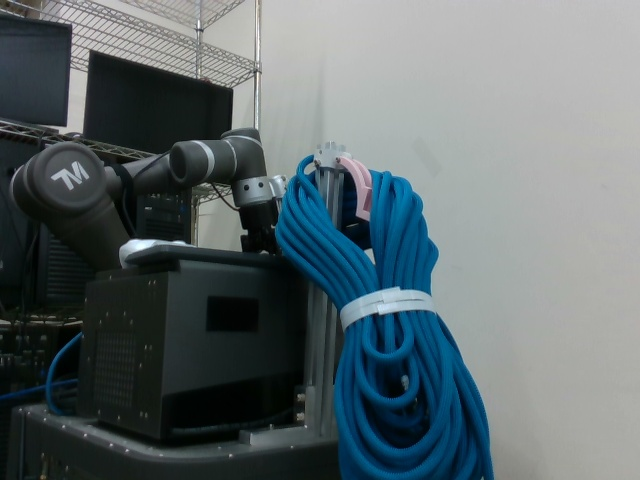rope: (271, 148, 497, 480)
